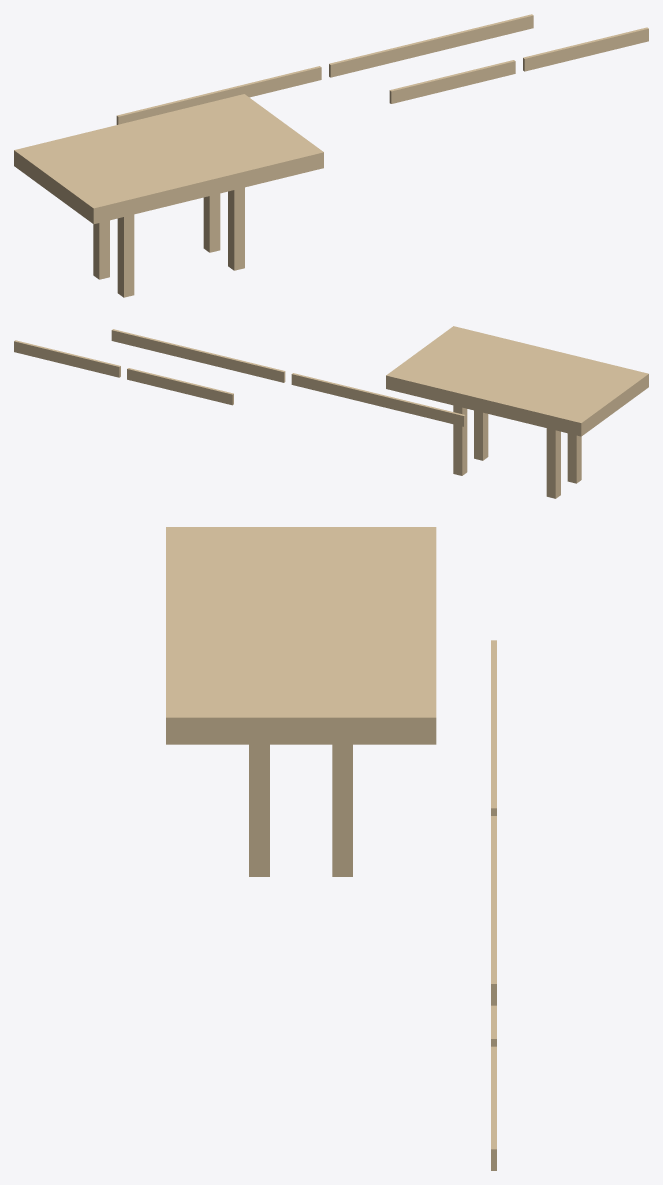
Rendered from Demo.glb.
3 renders of one model, top to bottom at view 1: azimuth 30°, elevation 25°; view 2: azimuth 150°, elevation 25°; view 3: azimuth 270°, elevation 25°, orthographic. The views are drawn at different scales.
Parts seen in each view (by area): view 1: top.panel, frame.apron.long_2, frame.apron.long_1, frame.apron.short_1, frame.apron.short_2, leg_1, leg_2, leg_4, leg_3; view 2: top.panel, frame.apron.long_1, frame.apron.long_2, frame.apron.short_1, frame.apron.short_2, leg_3, leg_4, leg_1, leg_2; view 3: top.panel, leg_2, leg_4, frame.apron.long_2, frame.apron.long_1.
Part boxes in pixels (x1,y1,x2,y2): top.panel: [14, 94, 323, 224]; frame.apron.long_2: [329, 14, 533, 77]; frame.apron.long_1: [116, 66, 321, 124]; frame.apron.short_1: [389, 60, 515, 103]; frame.apron.short_2: [523, 27, 648, 71]; leg_1: [117, 214, 134, 297]; leg_2: [228, 187, 244, 270]; leg_4: [203, 193, 220, 252]; leg_3: [93, 220, 109, 279]; top.panel: [386, 326, 648, 436]; frame.apron.long_1: [291, 373, 465, 426]; frame.apron.long_2: [111, 329, 285, 382]; frame.apron.short_1: [127, 368, 233, 405]; frame.apron.short_2: [14, 340, 120, 377]; leg_3: [546, 428, 560, 498]; leg_4: [453, 405, 467, 475]; leg_1: [567, 433, 581, 483]; leg_2: [474, 410, 488, 460]; top.panel: [166, 527, 436, 744]; leg_2: [249, 744, 269, 876]; leg_4: [332, 744, 352, 876]; frame.apron.long_2: [491, 816, 496, 1005]; frame.apron.long_1: [491, 640, 496, 815].
Bounding box in the file's own units: 4.29 × 0.76 × 1.11.
